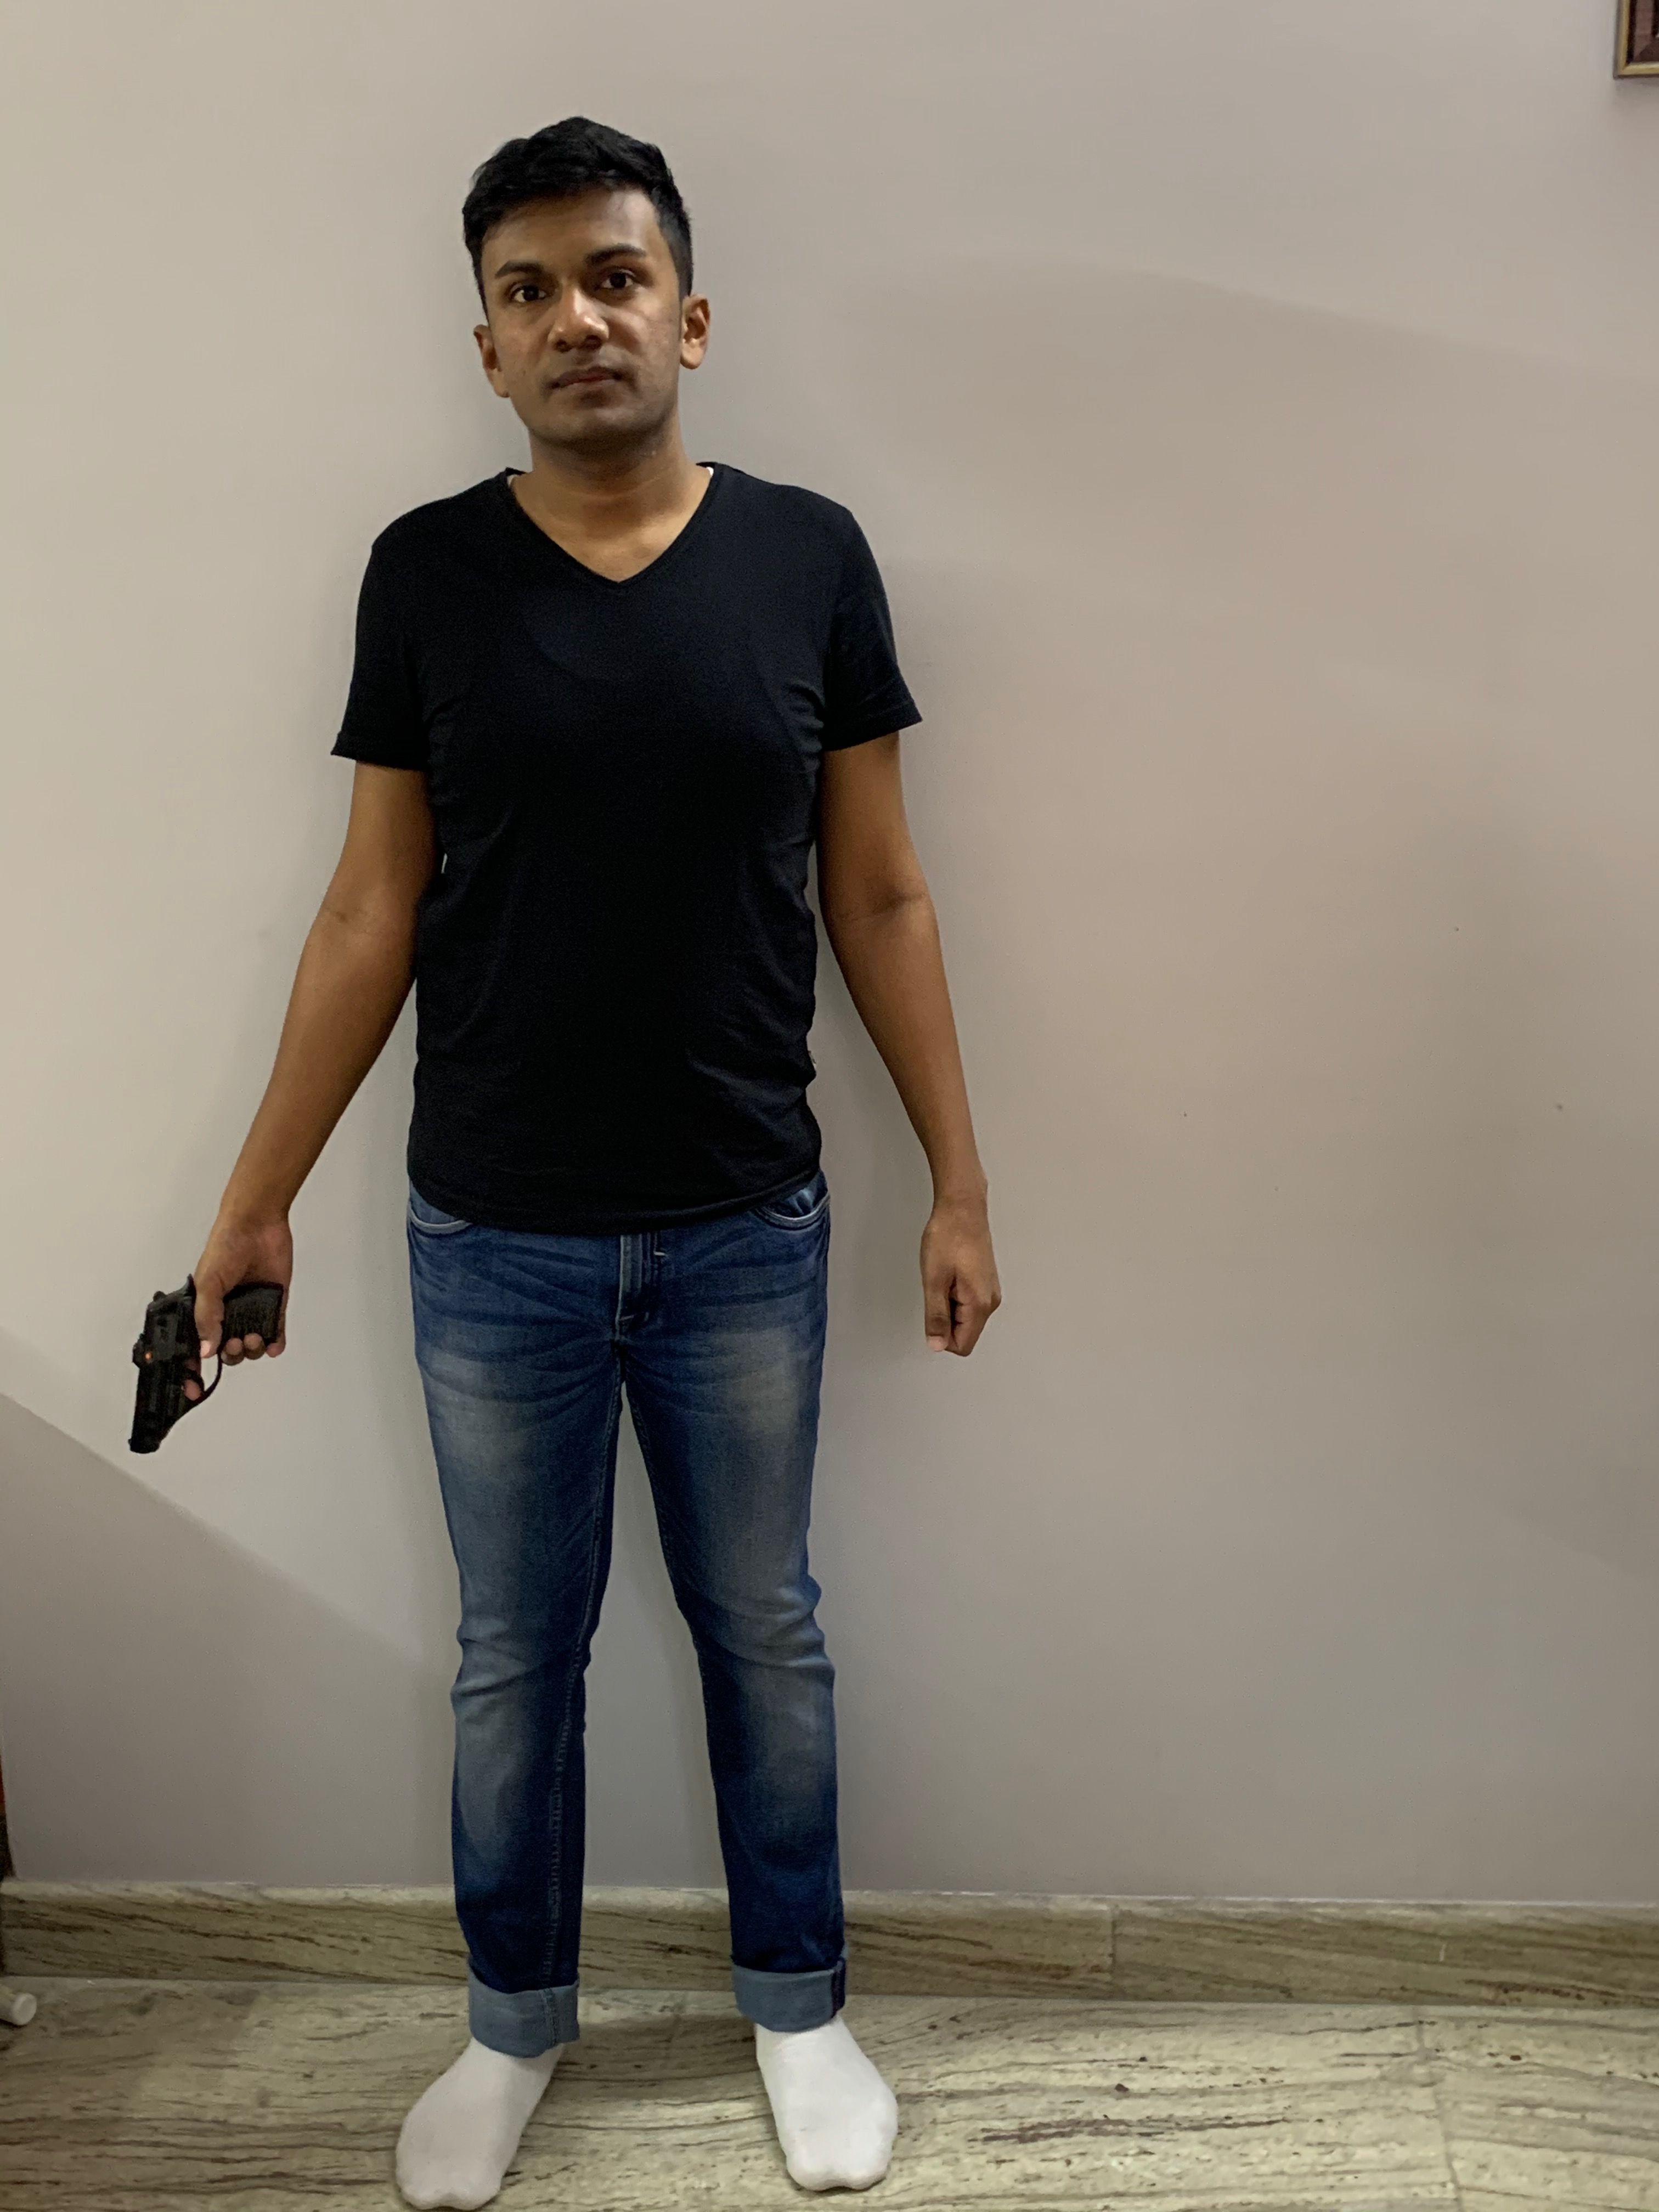gun: (124, 1278, 291, 1479)
